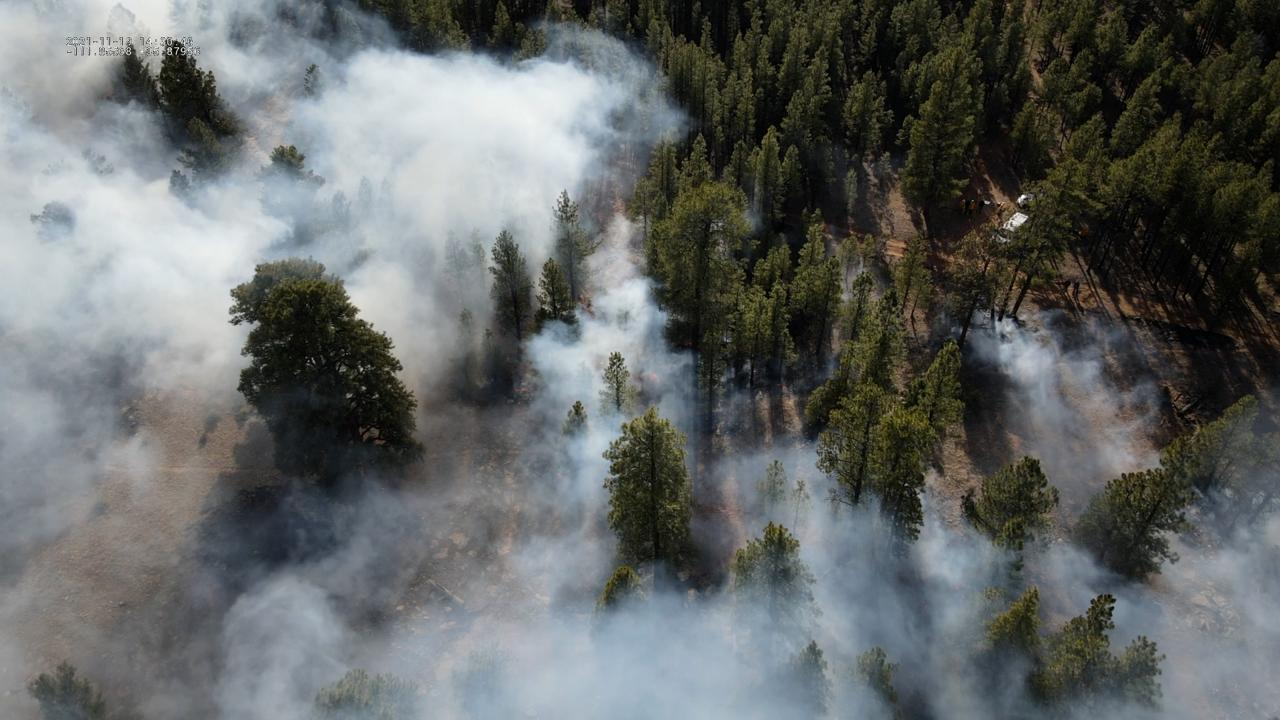fire: (649, 372, 657, 382)
smoke: (0, 0, 1280, 720)
